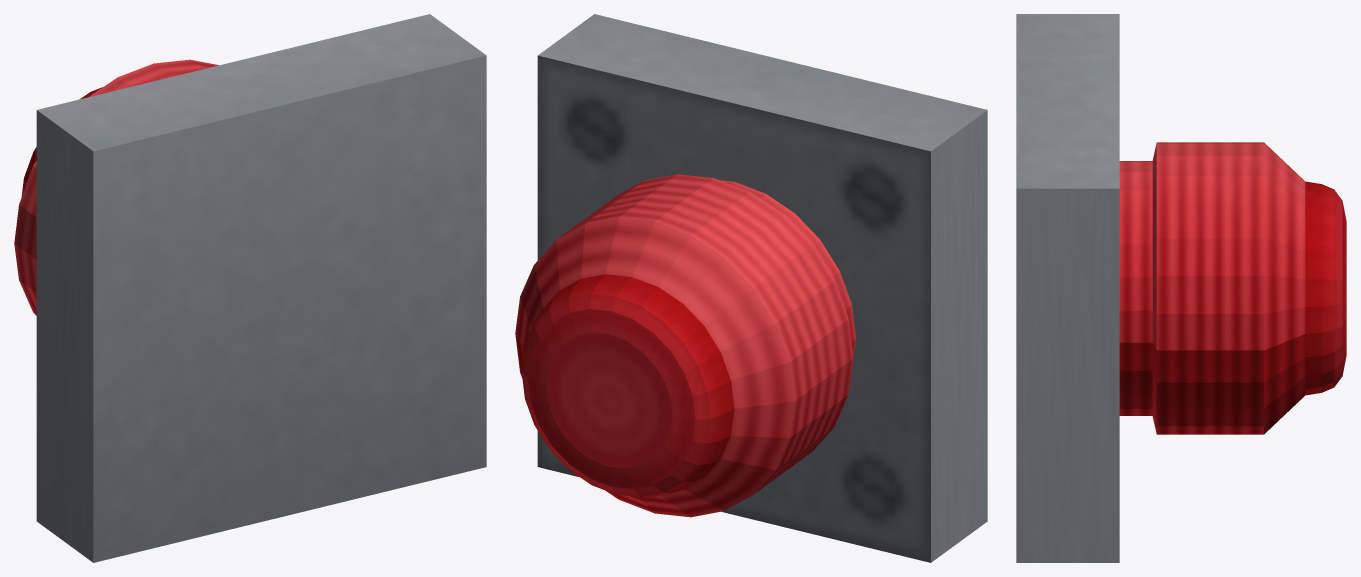
The model's file is firealarm_beacon.obj.
3 views of the same model, side by side, from view 1: azimuth 30°, elevation 25°; view 2: azimuth 150°, elevation 25°; view 3: azimuth 270°, elevation 25° (orthographic). The views are drawn at different scales.
Parts seen in each view (by area): view 1: firealarm_beacon; view 2: firealarm_beacon; view 3: firealarm_beacon.
Part boxes in pixels (x1=…): firealarm_beacon: x1=14, y1=14, x2=486, y2=562; firealarm_beacon: x1=515, y1=14, x2=987, y2=562; firealarm_beacon: x1=1016, y1=14, x2=1346, y2=562.
Size of the model in its own units: 0.625 by 0.625 by 0.5.
